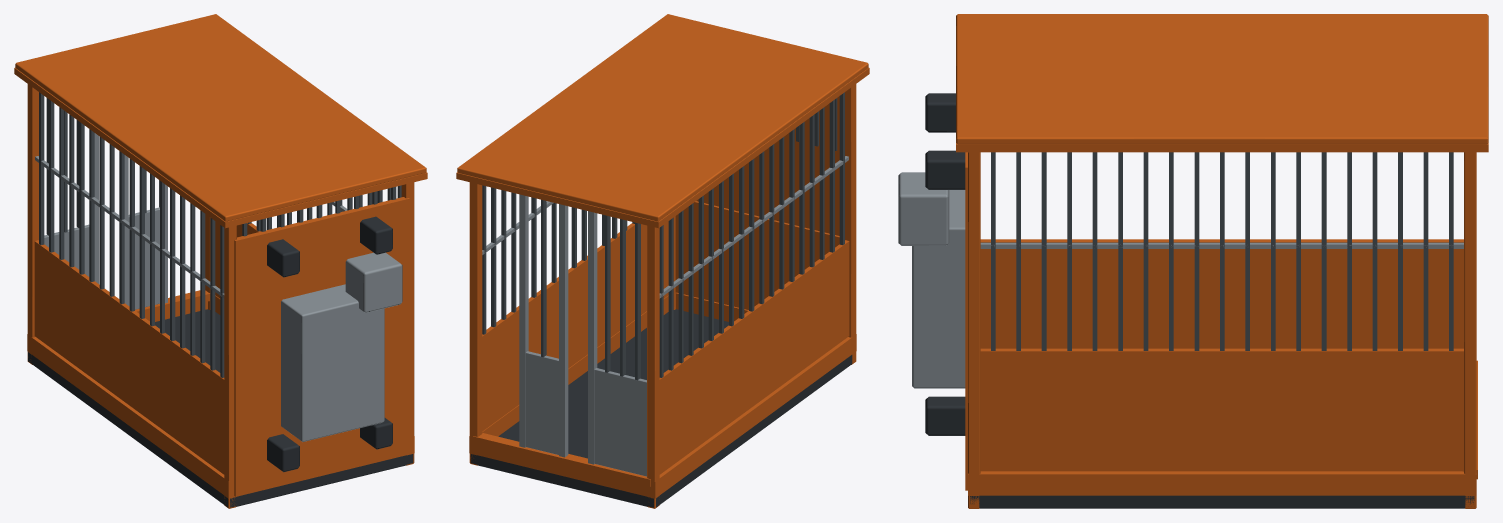
The model's file is hoist.glb.
3 renders of one model, left to right at view 1: azimuth 30°, elevation 25°; view 2: azimuth 150°, elevation 25°; view 3: azimuth 270°, elevation 25°, orthographic. The views are drawn at different scales.
Visible parts, largest first — view 1: hoist; view 2: hoist; view 3: hoist.
Part boxes in pixels (left/top/right/bottom): hoist: left=14, top=14, right=427, bottom=508; hoist: left=456, top=14, right=869, bottom=508; hoist: left=898, top=14, right=1488, bottom=508.
Bounding box in the file's own units: 1.74 × 2.45 × 3.48.
